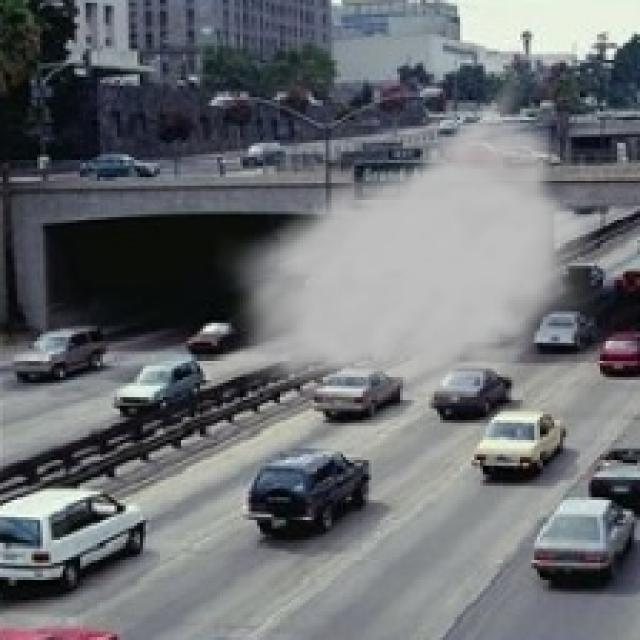Smoke: (211, 57, 606, 406)
